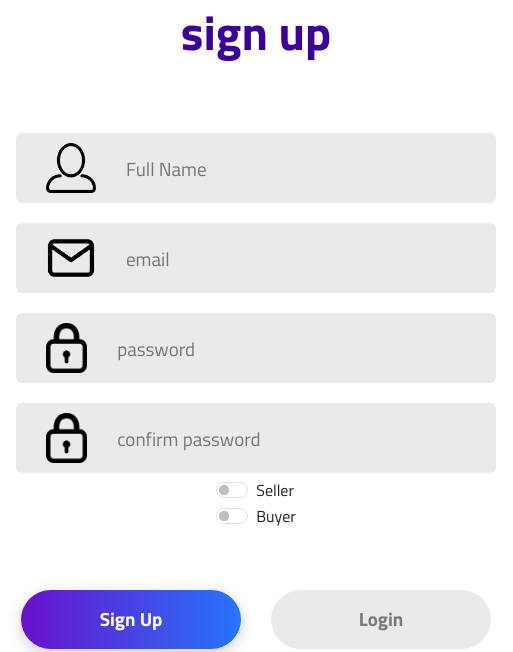
Test: LoginSignup Component › renders the signup form when Sign Up button is clicked
This screenshot has width=513, height=652.
Click the text "Login" at [381, 620], box [271,590,491,649]
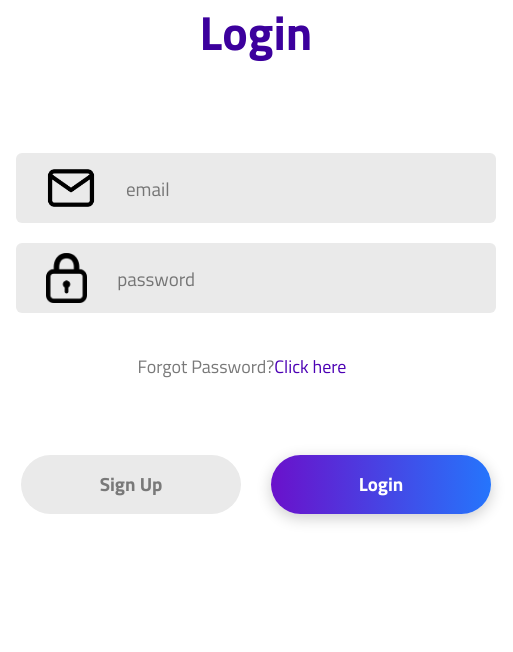
Click the text "Sign Up" at [131, 484], box [21,455,241,514]
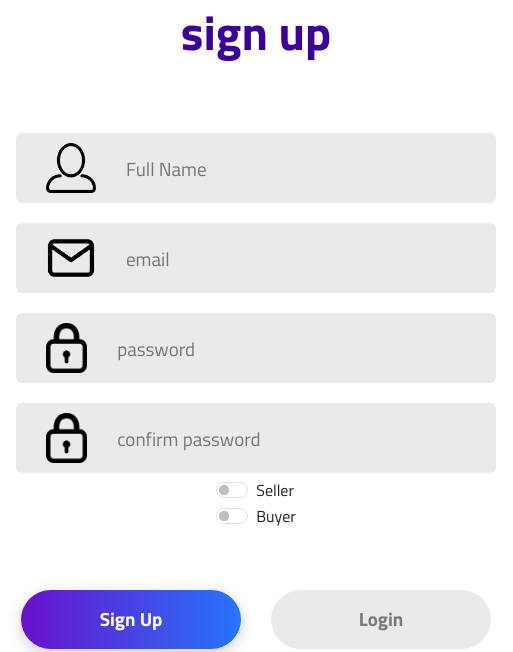
Expected: the field with placeholder "email" is shown, [126,233,496,283]
Expected: the field with placeholder "Full Name" is shown, [126,143,496,193]
Expected: the password field with placeholder "confirm password" is shown, [117,413,496,463]
